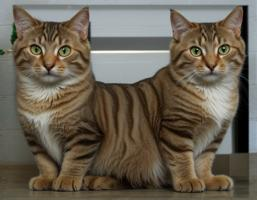cat: (12, 5, 248, 197)
